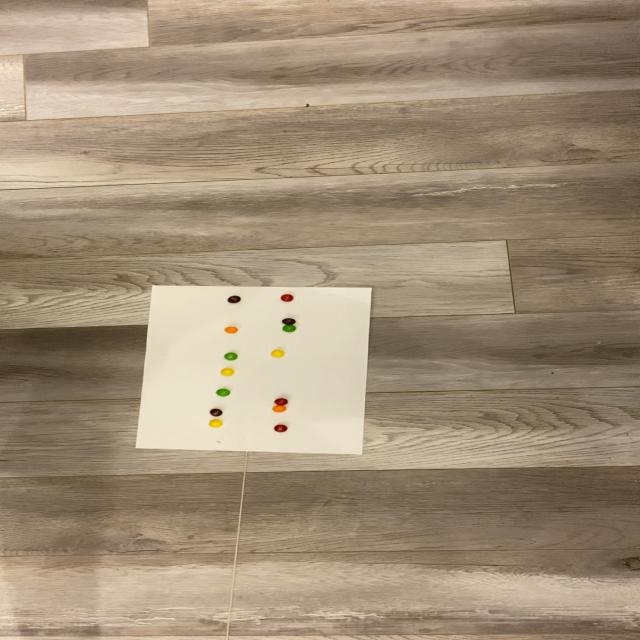smartie: (274, 397, 289, 406), (215, 388, 230, 397), (270, 349, 285, 358), (220, 368, 235, 377), (209, 408, 223, 417), (282, 324, 297, 332), (228, 296, 242, 304), (281, 317, 295, 325), (224, 326, 238, 334), (280, 294, 294, 302), (274, 425, 288, 433), (224, 353, 238, 361), (208, 420, 222, 428), (273, 405, 287, 412)
